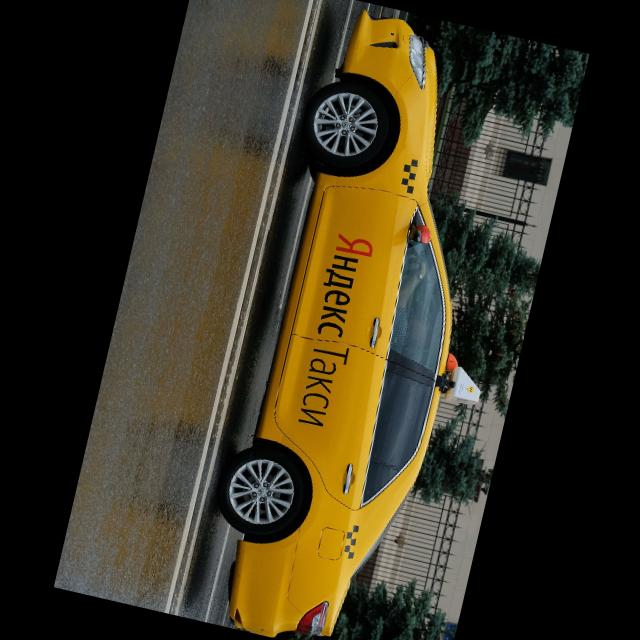taxi: (186, 2, 558, 640)
